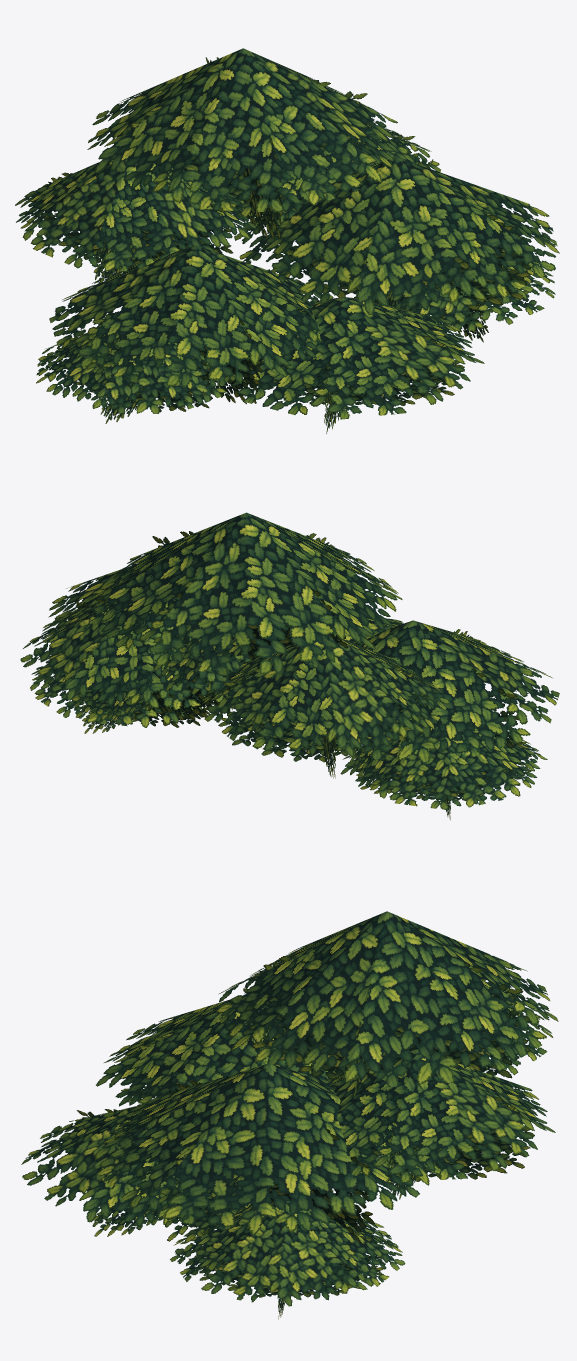
Rendered from Cespuglio_03_Ciuffi.obj.
The picture shows the model from 3 angles, top to bottom: view 1: azimuth 30°, elevation 25°; view 2: azimuth 150°, elevation 25°; view 3: azimuth 270°, elevation 25°; orthographic projection. The views are drawn at different scales.
Parts seen in each view (by area): view 1: Cespuglio_03_Ciuffi; view 2: Cespuglio_03_Ciuffi; view 3: Cespuglio_03_Ciuffi.
Part boxes in pixels (x1,y1,x2,y2): Cespuglio_03_Ciuffi: (15,48,559,433); Cespuglio_03_Ciuffi: (20,512,559,820); Cespuglio_03_Ciuffi: (21,911,558,1319).
Bounding box in the file's own units: 2.49 × 1.38 × 2.19.
